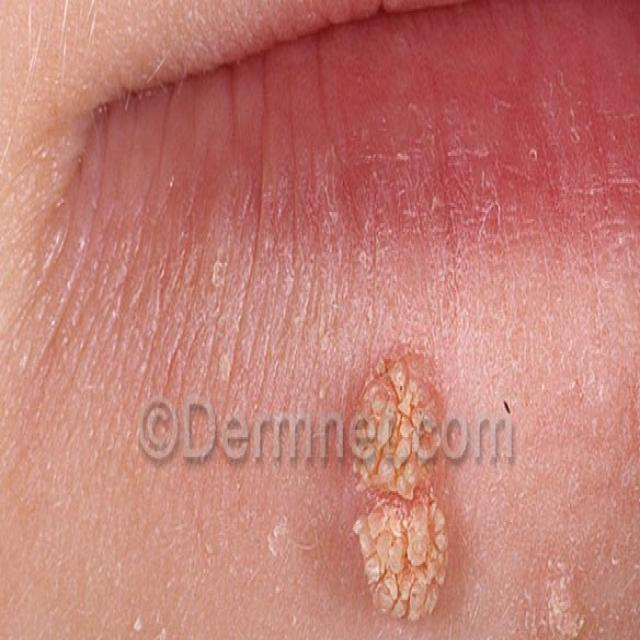Warts: (330, 344, 471, 640), (530, 533, 583, 640)
